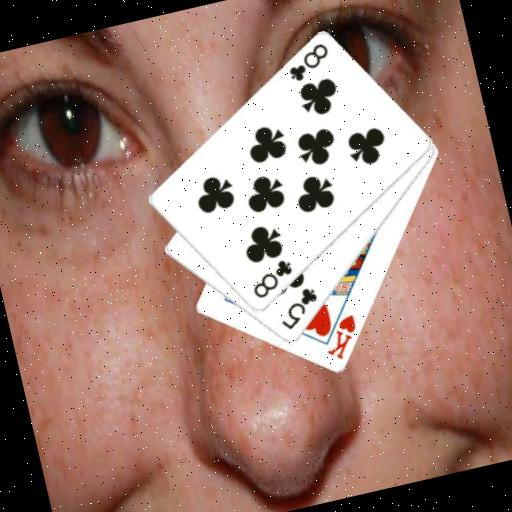5C: (271, 283, 325, 335)
8C: (245, 255, 300, 302), (281, 39, 336, 86)
KH: (317, 311, 365, 365)
